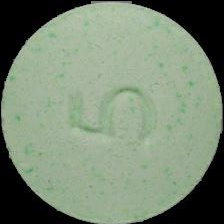66116-360: (0, 0, 224, 224)
